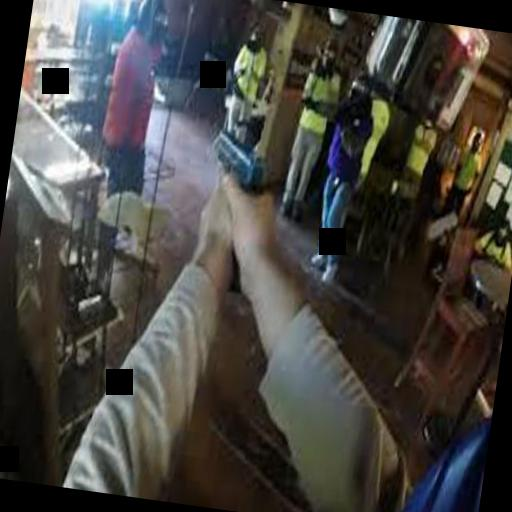Handgun: (187, 120, 271, 306)
